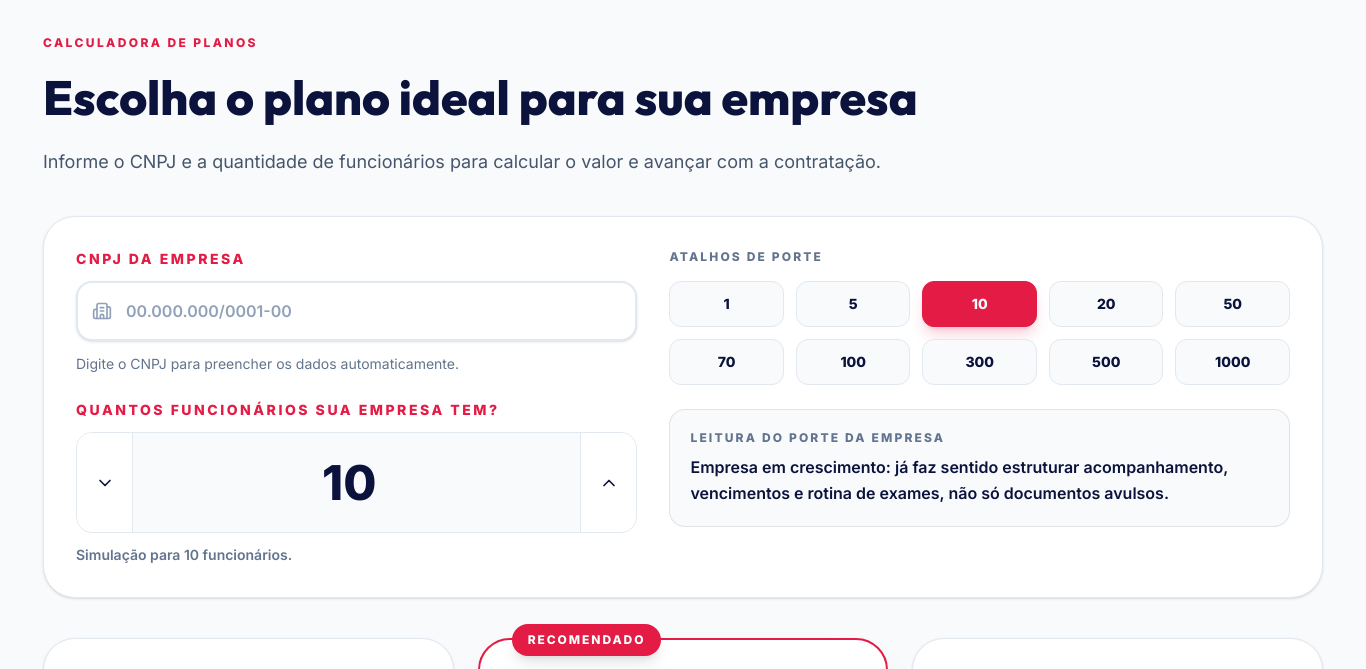
Scenario: AssinaturaPlans contract flow › calcula os valores mensais com as faixas definidas na tabela comercial
Click the button "20": (1106, 304) [1049, 281, 1164, 327]
(page scrolled)
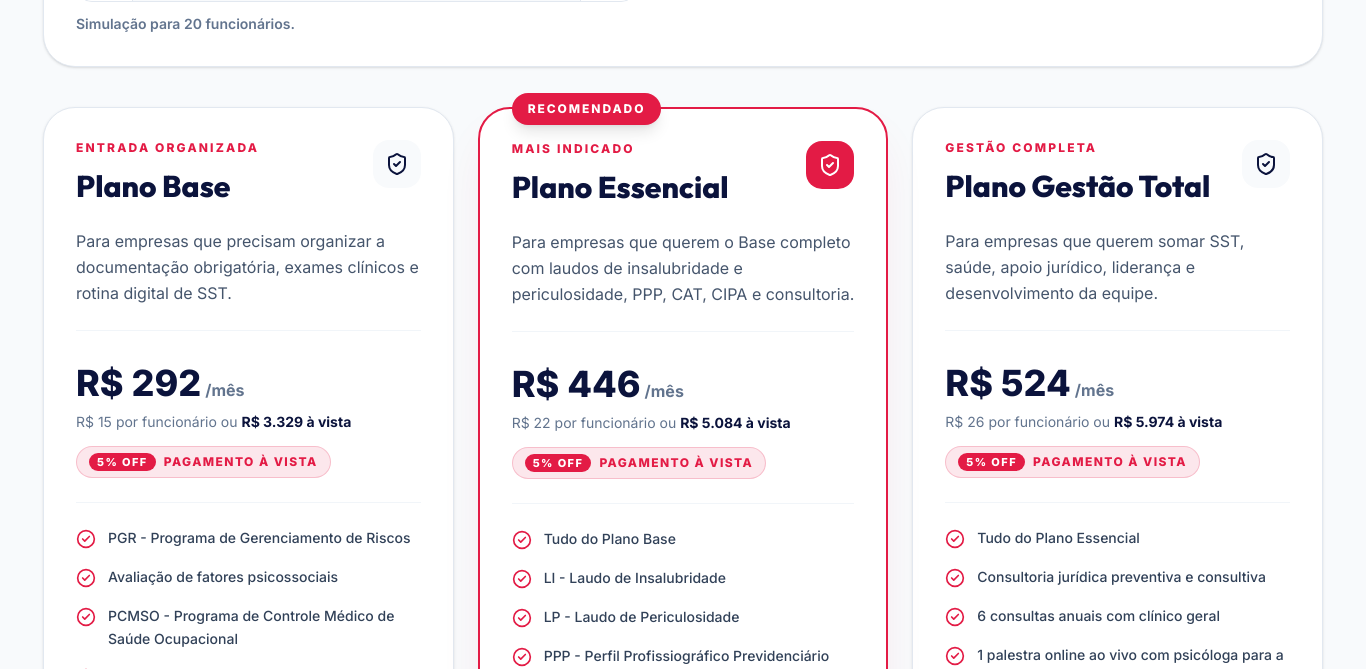
Expected: the text "R$ 292/mês" is shown, [76, 361, 244, 405]
Expected: the text "R$ 446/mês" is shown, [512, 362, 684, 406]
Expected: the text "R$ 524/mês" is shown, [945, 361, 1114, 405]
